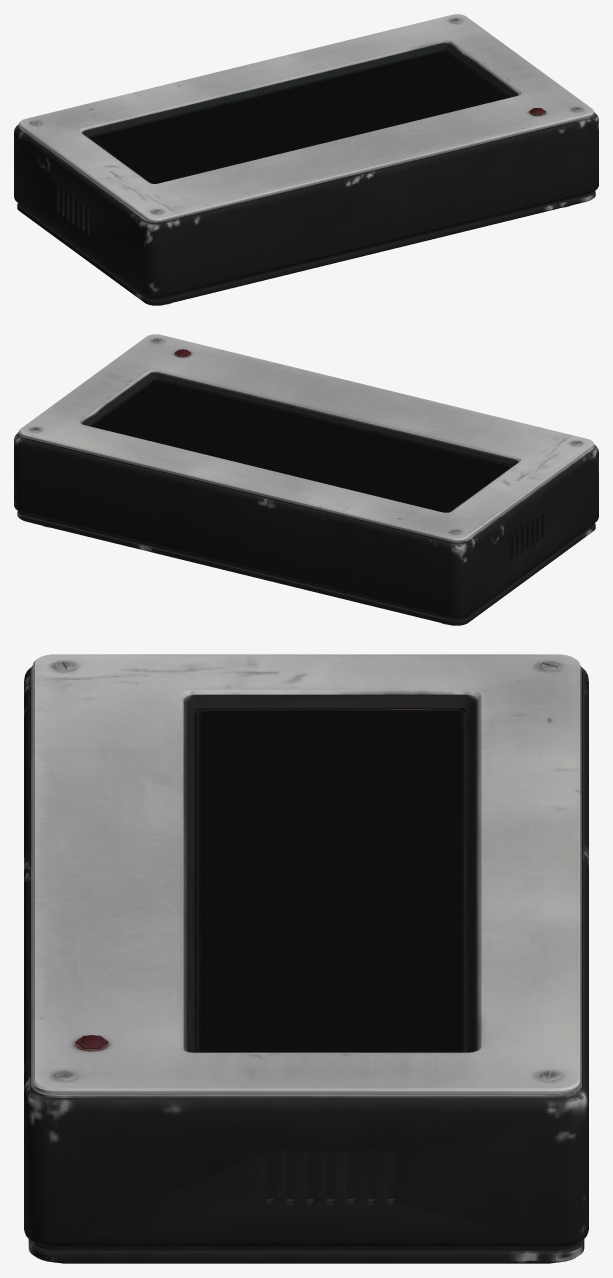
The model's file is timer.glb.
3 views of the same model, one above another, from view 1: azimuth 30°, elevation 25°; view 2: azimuth 150°, elevation 25°; view 3: azimuth 270°, elevation 25° (orthographic). The views are drawn at different scales.
Visible parts, largest first — view 1: Housing | deep-drawn wrinkle steel, Face | brushed aluminium bezel, Display_Window, Base | pressed return pan, Optics | sloped black return, Face | compressed perimeter seal, Base | inset parting joint, Optics | glazing channel; view 2: Housing | deep-drawn wrinkle steel, Face | brushed aluminium bezel, Display_Window, Base | pressed return pan, Optics | sloped black return, Face | compressed perimeter seal, Base | inset parting joint, Optics | glazing channel; view 3: Face | brushed aluminium bezel, Display_Window, Housing | deep-drawn wrinkle steel, Optics | sloped black return, Base | pressed return pan, Face | compressed perimeter seal, Vent | folded inner baffle 1, Optics | glazing channel, Base | inset parting joint.
Part boxes in pixels (x1=…): Housing | deep-drawn wrinkle steel: x1=14, y1=113, x2=598, y2=298; Face | brushed aluminium bezel: x1=19, y1=14, x2=593, y2=221; Display_Window: x1=90, y1=51, x2=509, y2=183; Base | pressed return pan: x1=17, y1=191, x2=595, y2=305; Optics | sloped black return: x1=81, y1=43, x2=518, y2=183; Face | compressed perimeter seal: x1=18, y1=112, x2=594, y2=223; Base | inset parting joint: x1=19, y1=192, x2=592, y2=299; Optics | glazing channel: x1=89, y1=50, x2=509, y2=183; Housing | deep-drawn wrinkle steel: x1=14, y1=433, x2=598, y2=618; Face | brushed aluminium bezel: x1=19, y1=334, x2=593, y2=541; Display_Window: x1=91, y1=380, x2=510, y2=512; Base | pressed return pan: x1=17, y1=511, x2=595, y2=625; Optics | sloped black return: x1=81, y1=372, x2=518, y2=511; Face | compressed perimeter seal: x1=18, y1=432, x2=594, y2=543; Base | inset parting joint: x1=20, y1=512, x2=593, y2=619; Optics | glazing channel: x1=91, y1=379, x2=511, y2=512; Face | brushed aluminium bezel: x1=32, y1=654, x2=580, y2=1094; Display_Window: x1=197, y1=710, x2=463, y2=1052; Housing | deep-drawn wrinkle steel: x1=24, y1=667, x2=588, y2=1247; Optics | sloped black return: x1=183, y1=695, x2=477, y2=1052; Base | pressed return pan: x1=28, y1=1239, x2=584, y2=1263; Face | compressed perimeter seal: x1=30, y1=666, x2=582, y2=1098; Vent | folded inner baffle 1: x1=266, y1=1150, x2=394, y2=1202; Optics | glazing channel: x1=195, y1=709, x2=466, y2=1052; Base | inset parting joint: x1=33, y1=1242, x2=579, y2=1250.
Size of the model in its own units: 2 by 0.4103 by 1.08.
Materials: 1 (1 with a texture image).
